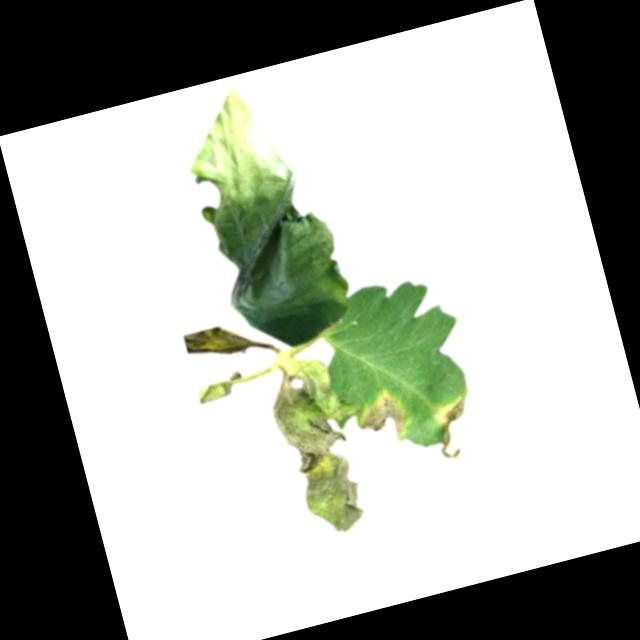Late_blight: (168, 70, 360, 364), (262, 352, 387, 540), (426, 394, 479, 463), (356, 385, 410, 445)
